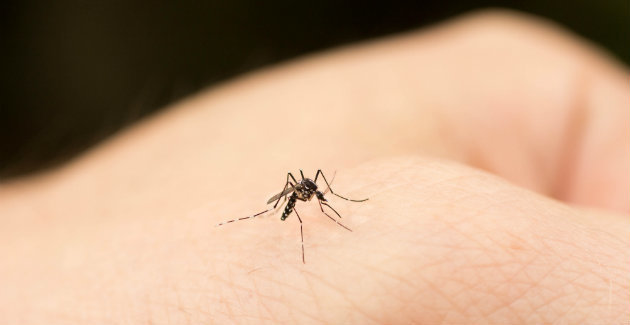dengue_mosquito: (242, 170, 358, 264)
